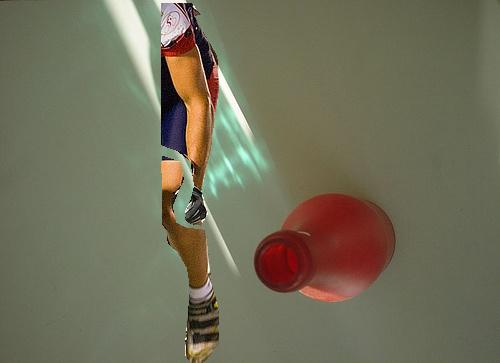tampered: (162, 4, 219, 363)
